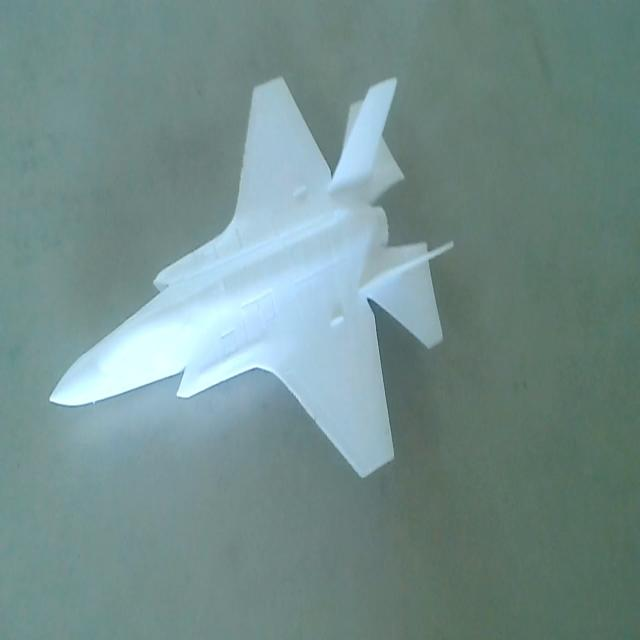Jet: (44, 66, 460, 490)
